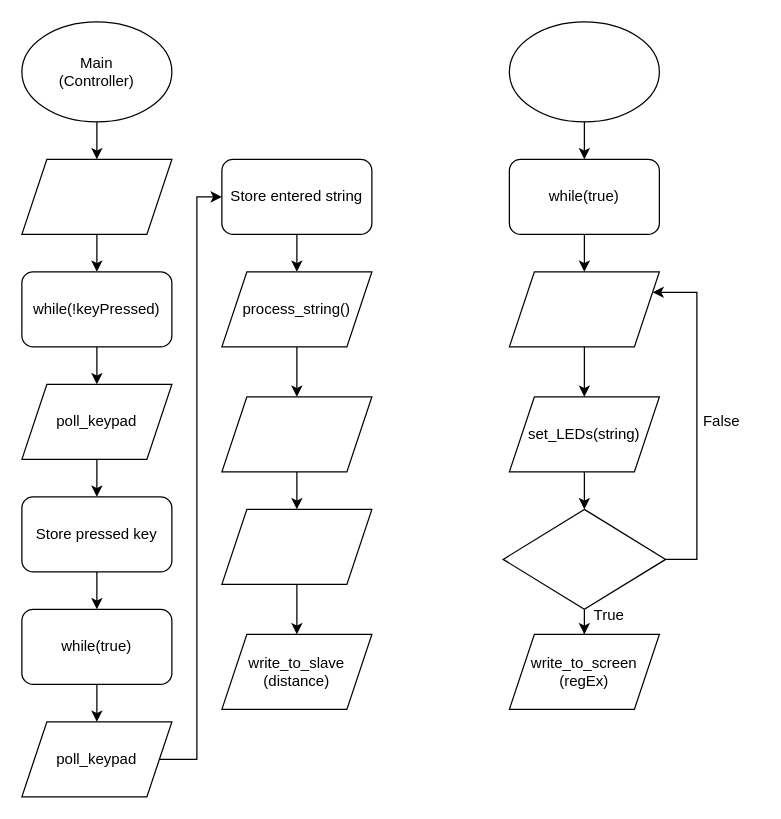
Image size: 781x819. Some labels were removed from this diagram. The box of each missing label's shape, as (x1, y1, x2, y2) in pixels:
create_NFAs: (21, 158, 172, 234)
if distance < 10 cm: (502, 508, 666, 609)
Main (Slave): (508, 21, 659, 122)
poll_sensor(): (221, 508, 372, 584)
write_to_screen (accepted): (508, 271, 659, 347)
write_to_slave (accepted, string): (221, 396, 372, 472)
